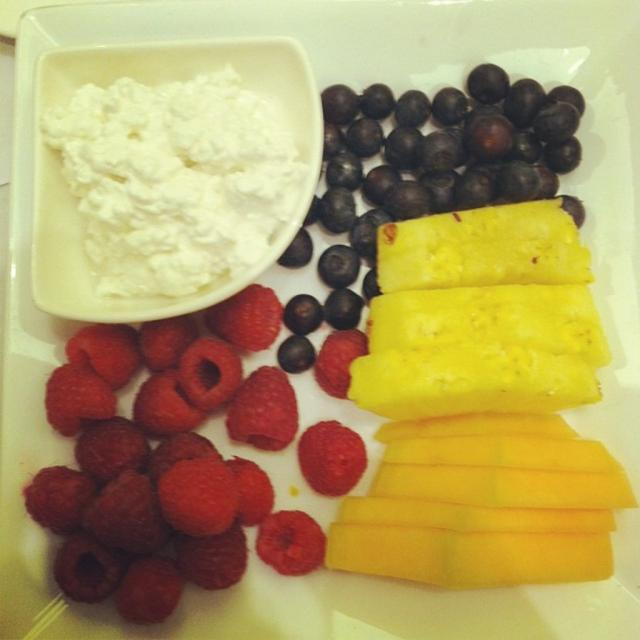Cheese: (34, 59, 309, 297)
